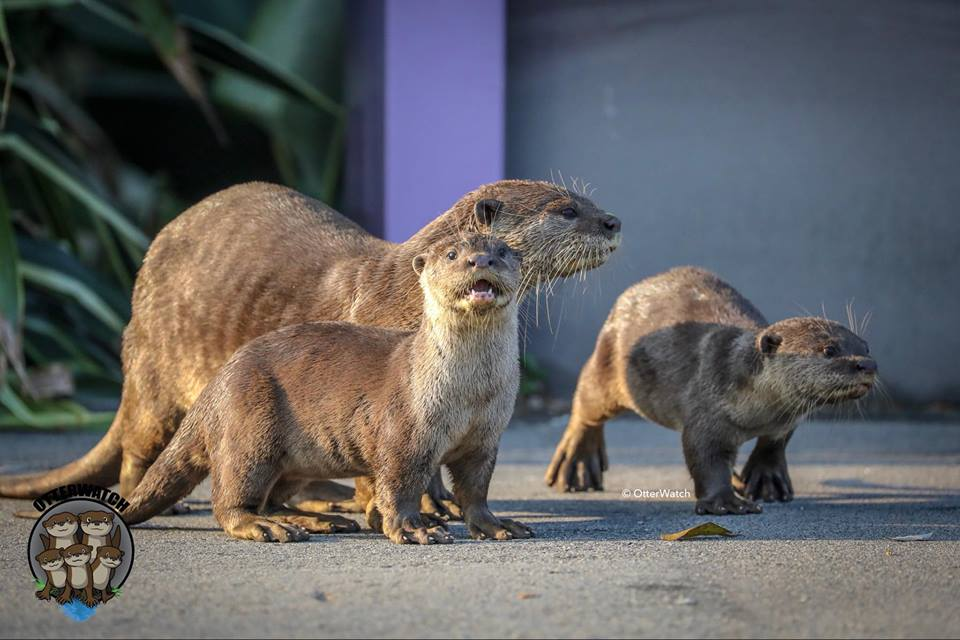otter: (1, 161, 629, 499), (123, 226, 541, 549), (544, 236, 889, 525)
